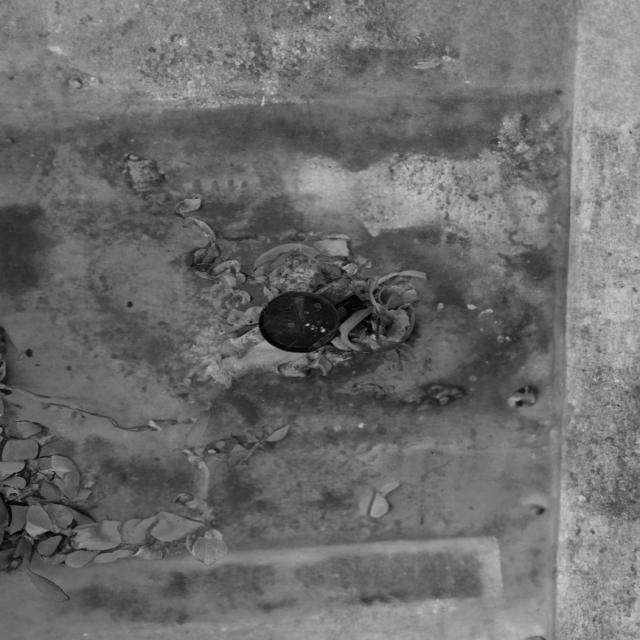Breeding Place: (0, 333, 131, 591), (224, 221, 398, 401)
